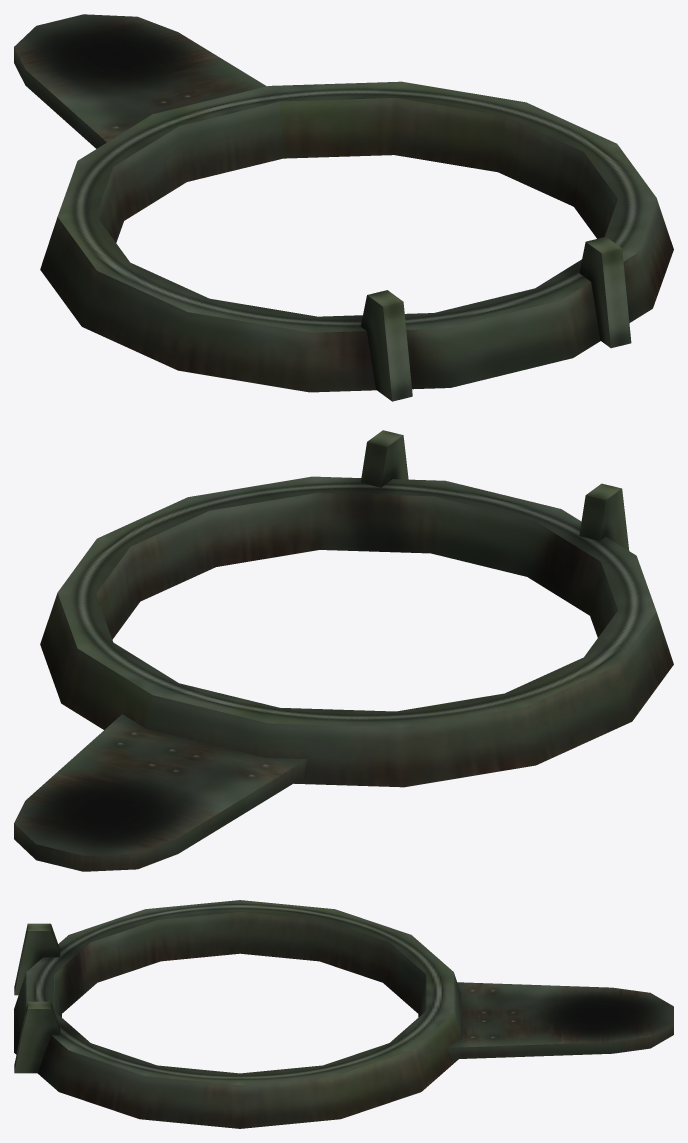
The model's file is gattling_base.obj.
3 renders of one model, top to bottom at view 1: azimuth 30°, elevation 25°; view 2: azimuth 150°, elevation 25°; view 3: azimuth 270°, elevation 25°, orthographic. The views are drawn at different scales.
Visible parts, largest first — view 1: submesh0; view 2: submesh0; view 3: submesh0.
Part boxes in pixels (x1,y1,x2,y2): submesh0: [14, 14, 673, 401]; submesh0: [14, 430, 673, 871]; submesh0: [14, 900, 673, 1128].
Size of the model in its own units: 63.23 by 9.73 by 89.96.
1 material, 1 textured.
